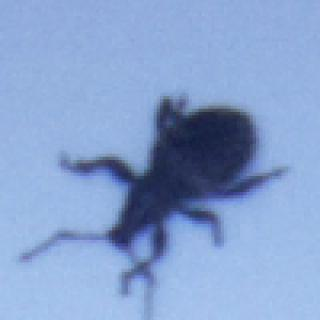bvw: (16, 89, 288, 320)
